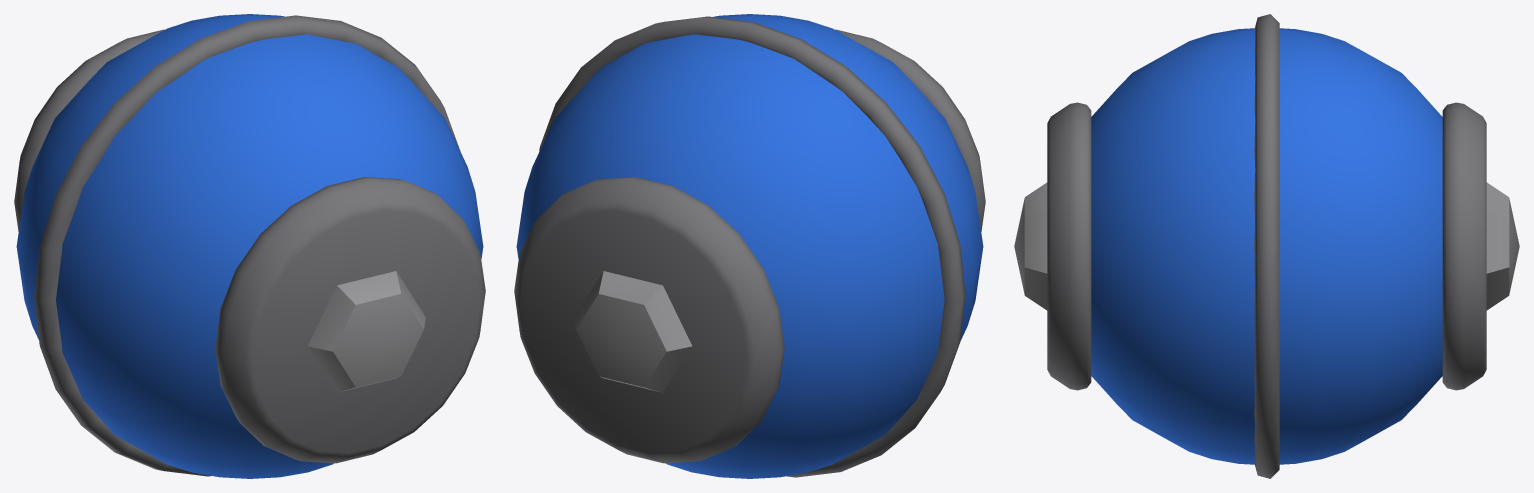
The model's file is Kit_Joint_Pin.glb.
3 views of the same model, side by side, from view 1: azimuth 30°, elevation 25°; view 2: azimuth 150°, elevation 25°; view 3: azimuth 270°, elevation 25° (orthographic). The views are drawn at different scales.
Parts seen in each view (by area): view 1: Kit_Joint_Pin; view 2: Kit_Joint_Pin; view 3: Kit_Joint_Pin.
Part boxes in pixels (<box>): Kit_Joint_Pin: <box>14,14,485,478</box>; Kit_Joint_Pin: <box>514,14,985,478</box>; Kit_Joint_Pin: <box>1014,14,1519,478</box>.
Bounding box in the file's own units: 2.12 × 2.12 × 2.3.
